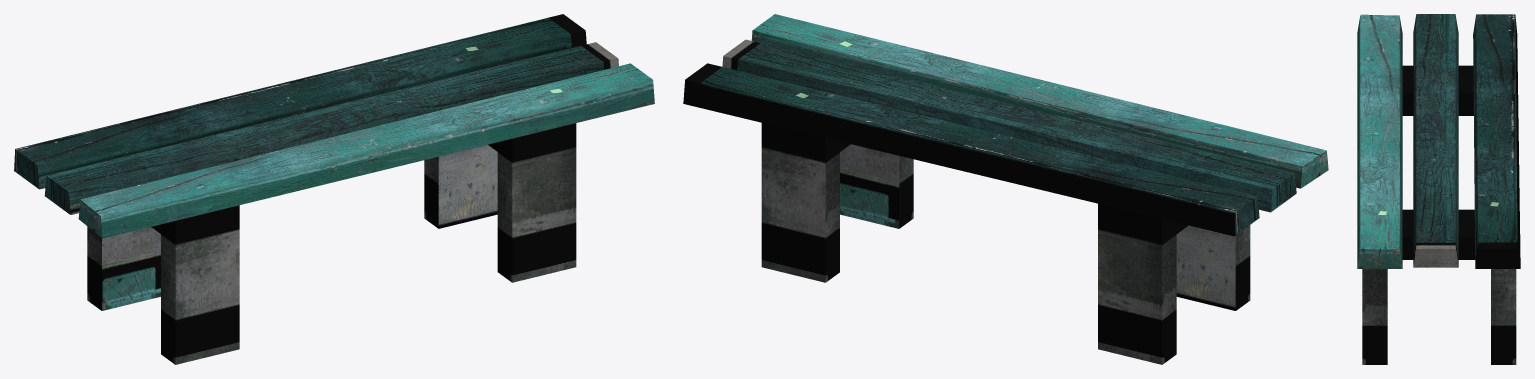
File: Benchmark.obj
The picture shows the model from 3 angles, left to right: view 1: azimuth 30°, elevation 25°; view 2: azimuth 150°, elevation 25°; view 3: azimuth 270°, elevation 25°; orthographic projection. The views are drawn at different scales.
Parts seen in each view (by area): view 1: bench1_Mesh; view 2: bench1_Mesh; view 3: bench1_Mesh.
Boxes of the visible parts, left/top/right/bottom form: bench1_Mesh: left=14, top=14, right=654, bottom=364; bench1_Mesh: left=683, top=14, right=1328, bottom=364; bench1_Mesh: left=1357, top=14, right=1520, bottom=364.
Bounding box in the file's own units: 1.51 × 0.442 × 0.4408.
Materials: 1 (1 with a texture image).
